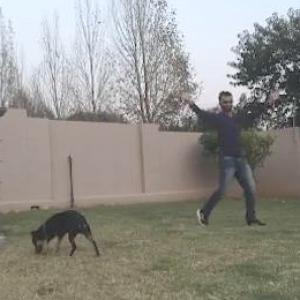takeoff: (137, 90, 261, 225)
